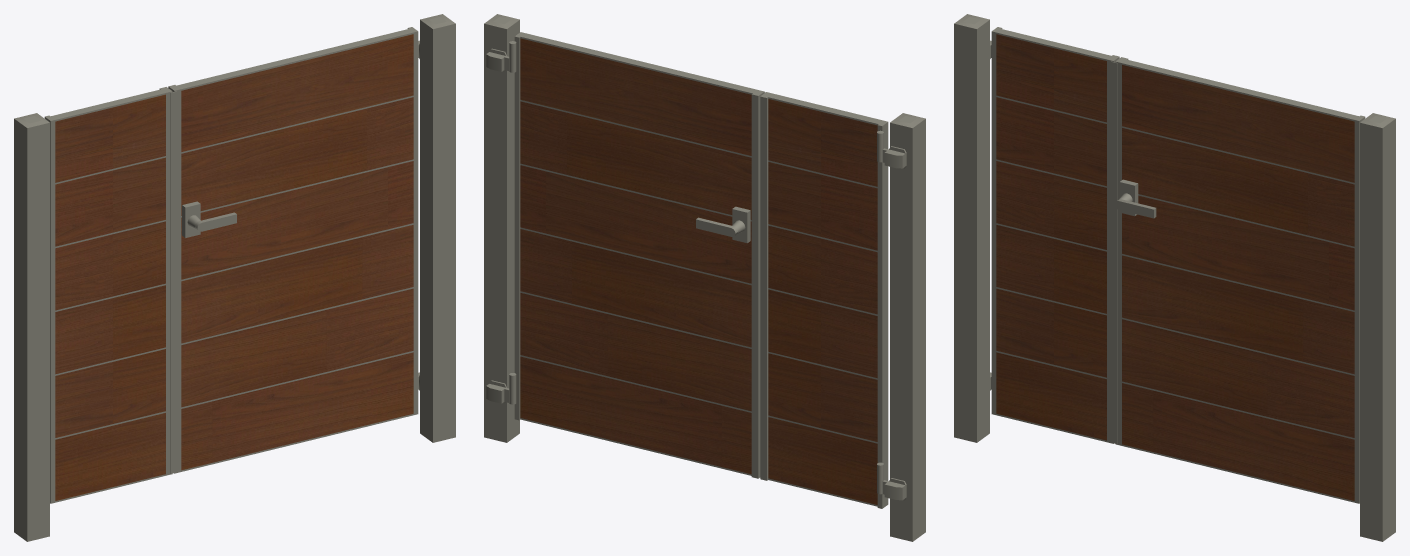
The model's file is 400-800-1200_walnut.fbx.
3 renders of one model, left to right at view 1: azimuth 30°, elevation 25°; view 2: azimuth 150°, elevation 25°; view 3: azimuth 330°, elevation 25°, orthographic.
Parts seen in each view (by area): view 1: 400-800-1200walnut; view 2: 400-800-1200walnut; view 3: 400-800-1200walnut.
Part boxes in pixels (bbox=[...]): 400-800-1200walnut: bbox=[14, 14, 455, 541]; 400-800-1200walnut: bbox=[484, 14, 925, 541]; 400-800-1200walnut: bbox=[954, 14, 1395, 541].
Size of the model in its own units: 141 by 130 by 17.1.
2 materials, 2 textured.
